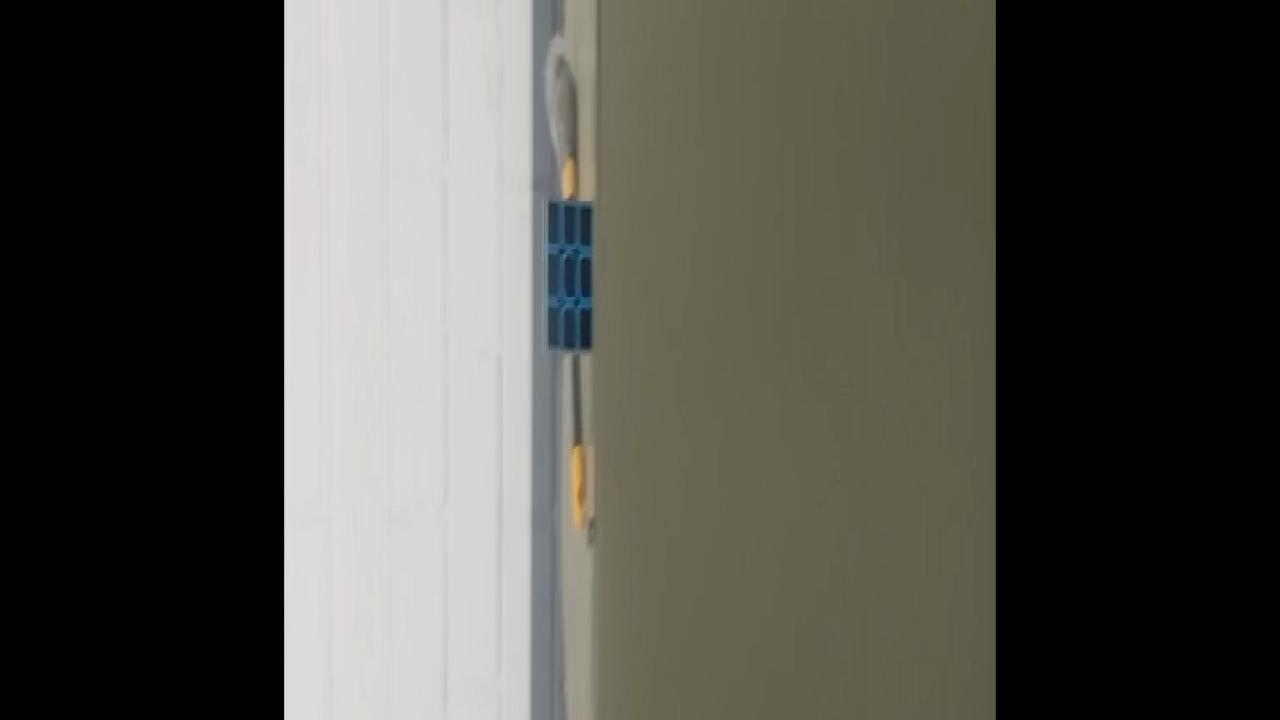Cube: (541, 198, 593, 358)
